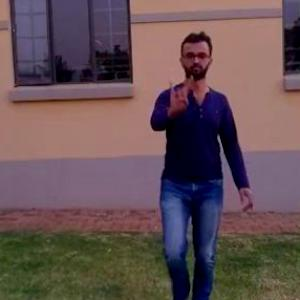takeoff-hand: (158, 70, 193, 121)
